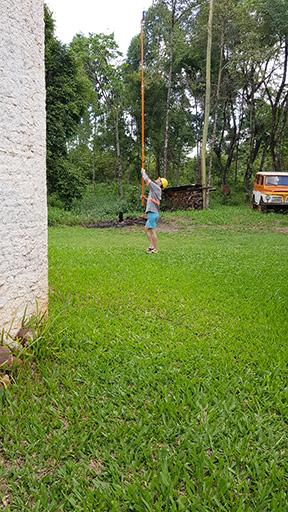Vara_Manobra: (139, 21, 145, 208)
